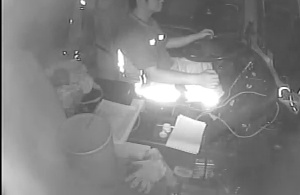paper: (161, 112, 208, 156)
